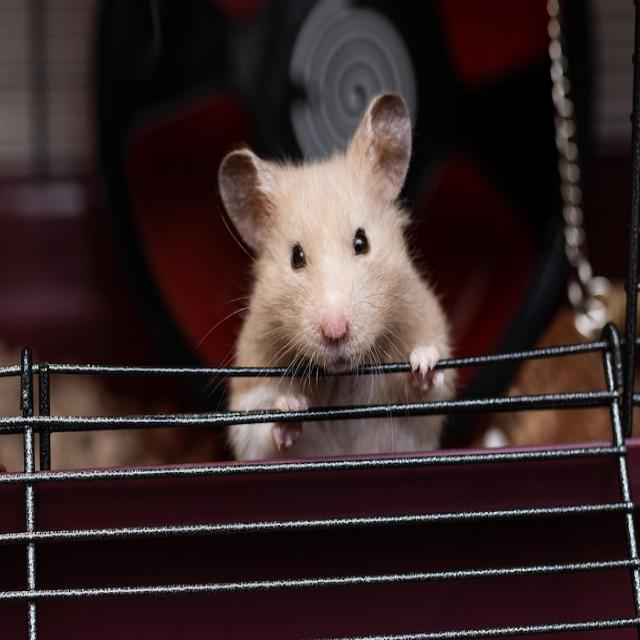hamster: (215, 87, 456, 455)
